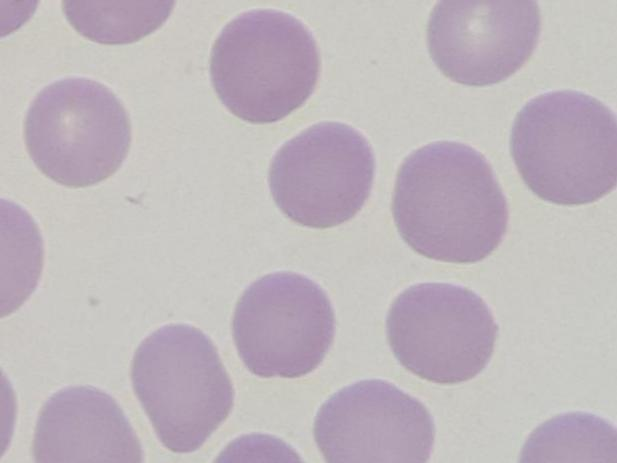Uninfected: (392, 142, 508, 264), (131, 322, 235, 452), (210, 8, 321, 126), (511, 92, 617, 211), (24, 77, 130, 190), (270, 122, 378, 226), (389, 283, 500, 382), (235, 270, 333, 377), (426, 0, 539, 85), (318, 383, 430, 463), (34, 382, 144, 463)
